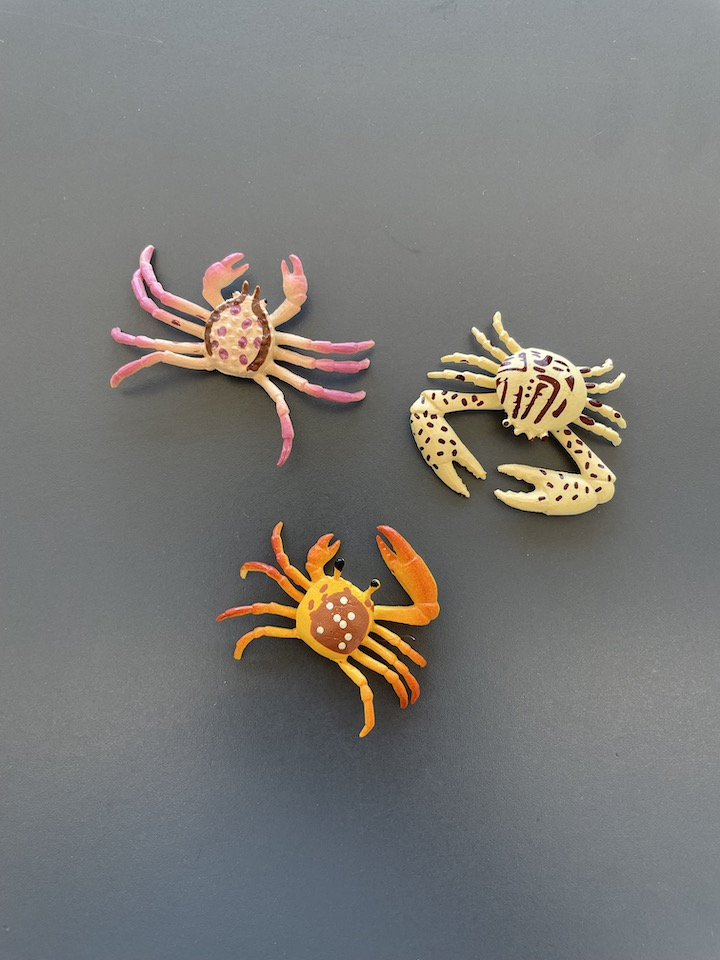crab: (105, 239, 378, 468), (210, 518, 444, 744), (406, 308, 632, 519)
